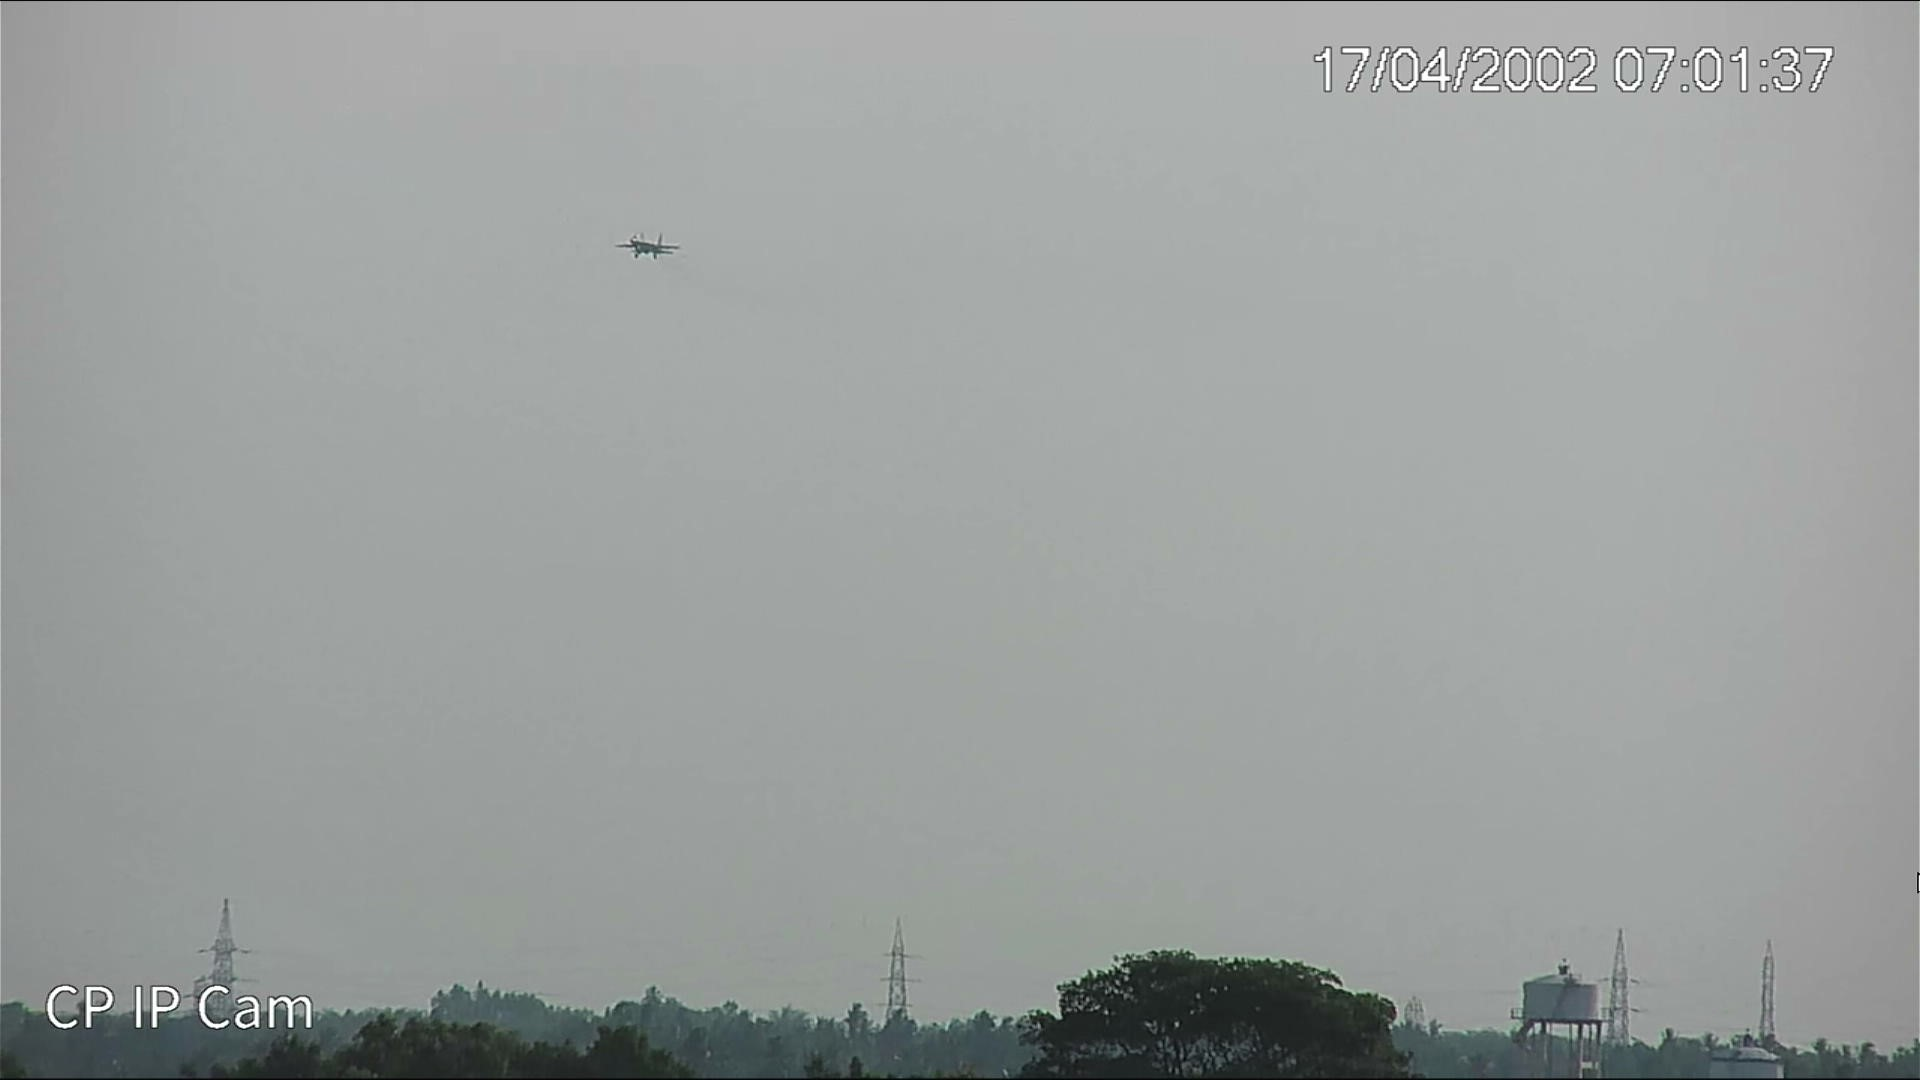SU_30: (615, 231, 682, 262)
